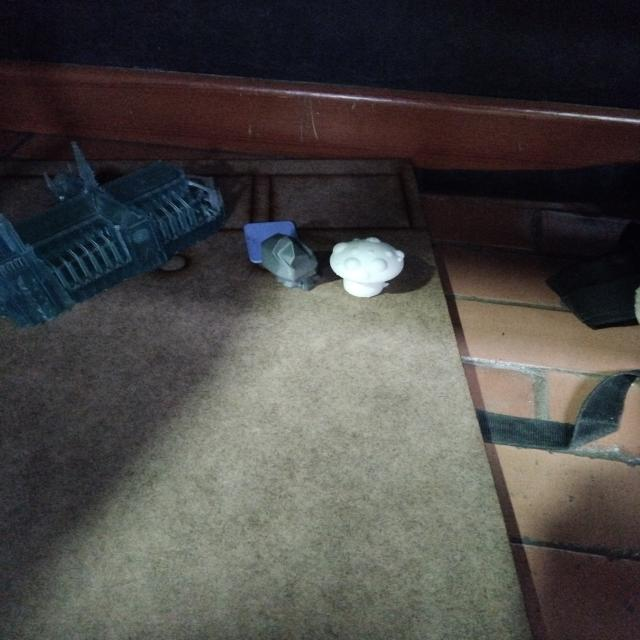Hongo: (321, 234, 412, 304)
